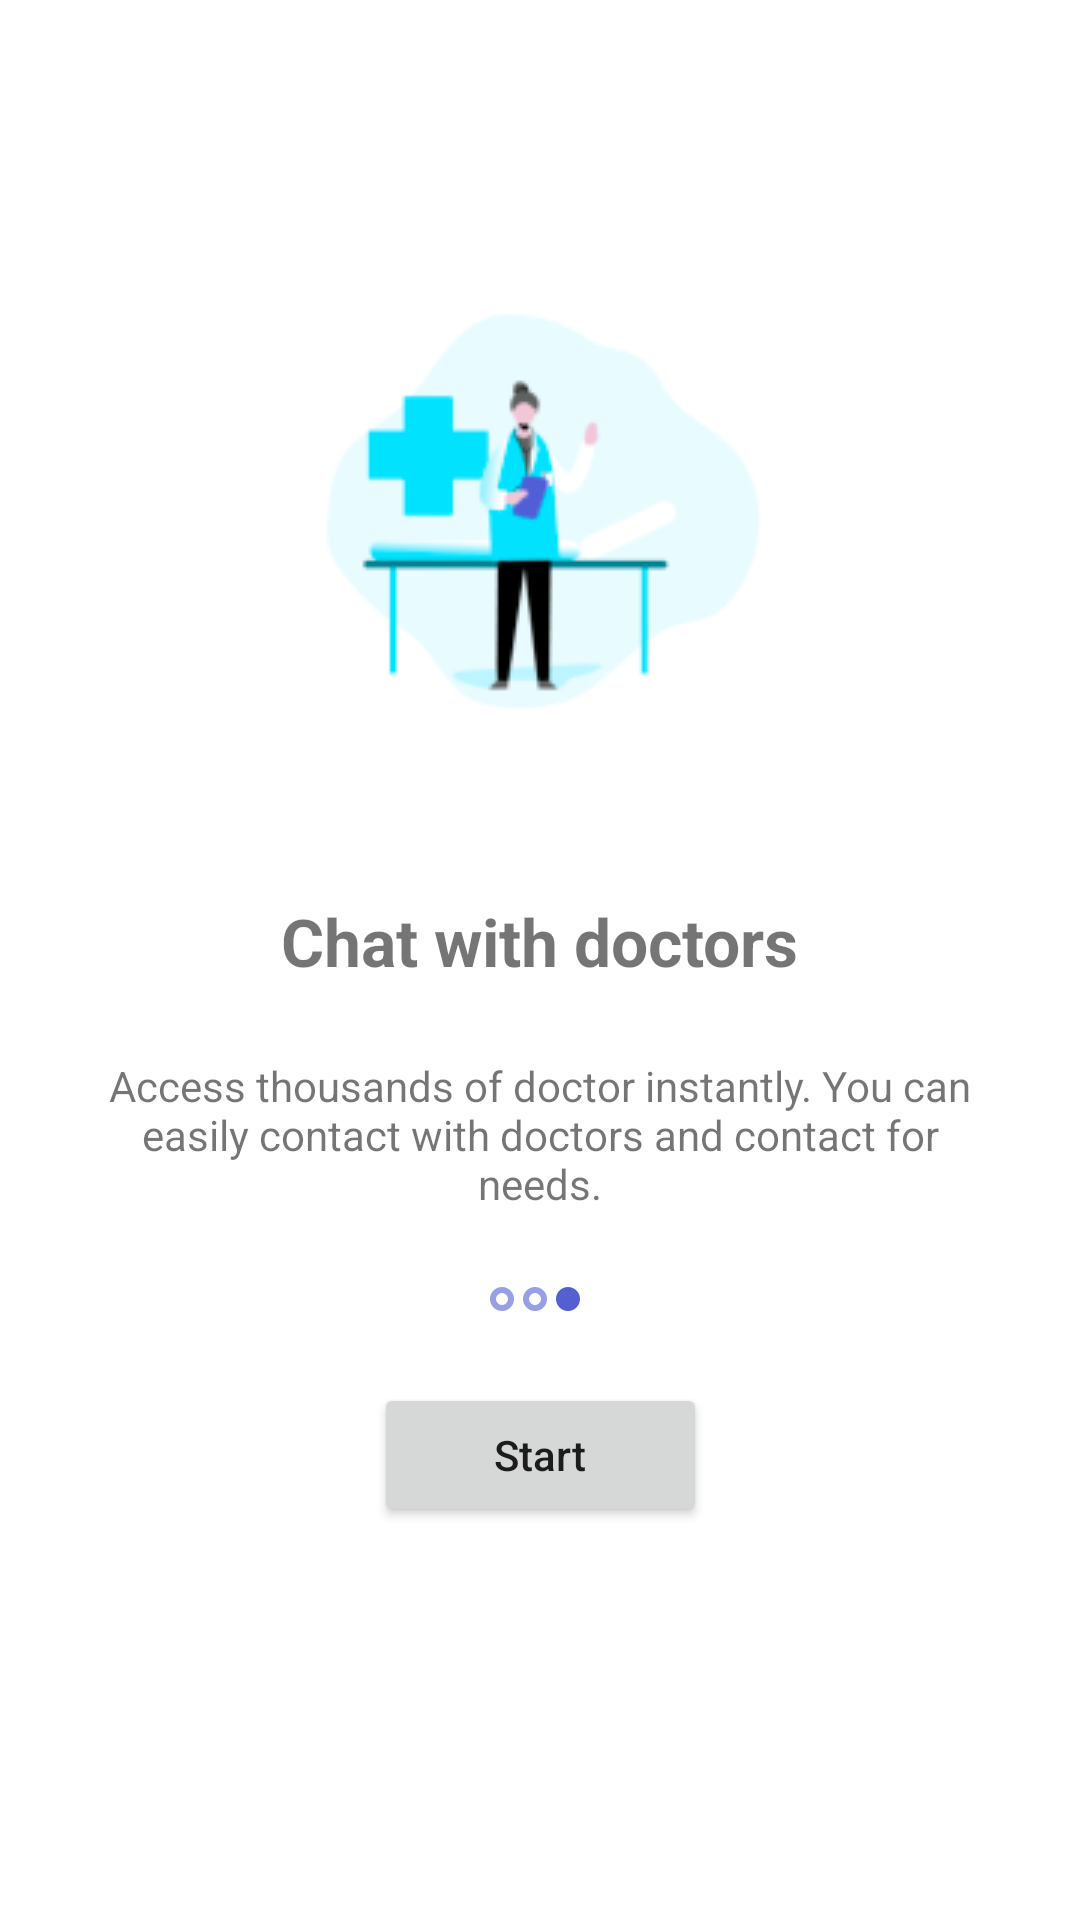

Screen size 1080px x 1920px. Icon name, then its center in pixels as (x=x, y=y):
slider bullet: (x=502, y=1299), (x=535, y=1299), (x=568, y=1299)
third intro: (x=516, y=535)
